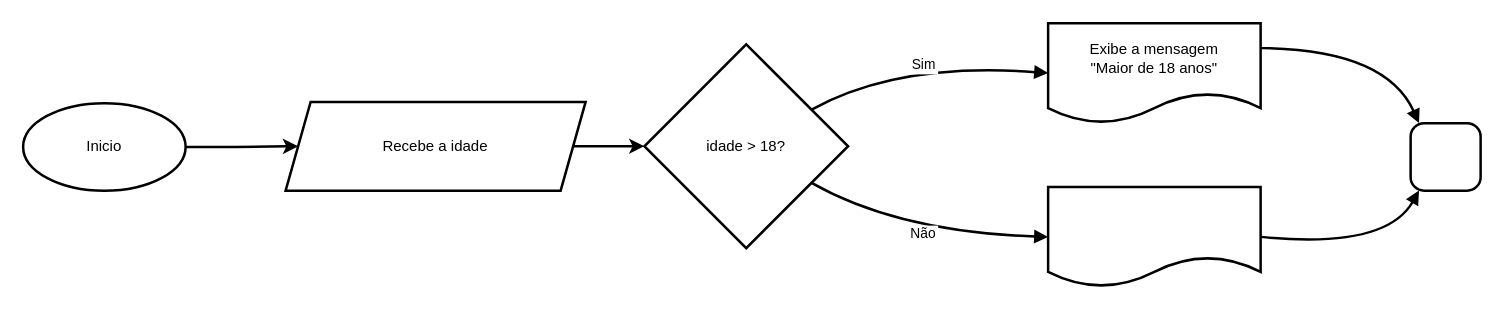
The diagram is 1503 pixels wide and 309 high, and some of its shapes have lost their labels. Each missing label, with the centre of its shape:
Exibe a mensagem "Menor de 18 anos": point 1153,236
Fim: point 1445,156
